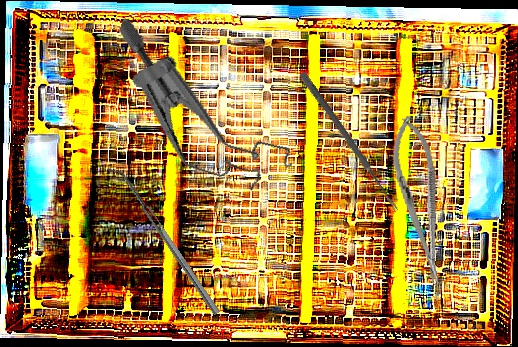Needle Holder: (385, 111, 455, 289)
Spatula Surgical: (107, 162, 221, 320)
Speculum: (82, 15, 321, 204)
Surgical Spoon: (298, 71, 401, 213)
